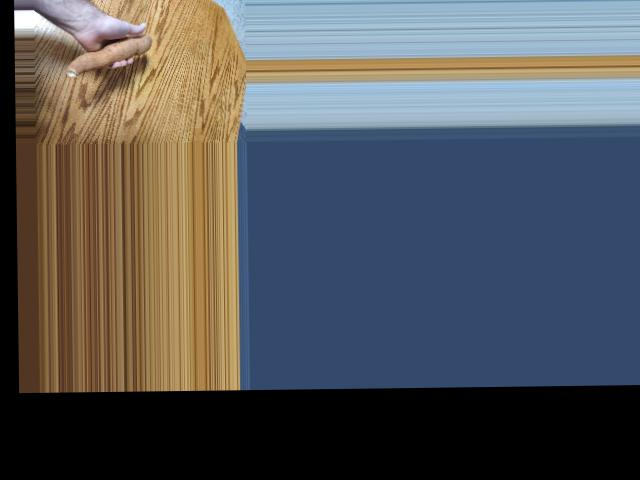sweet_potato: (63, 34, 152, 77)
